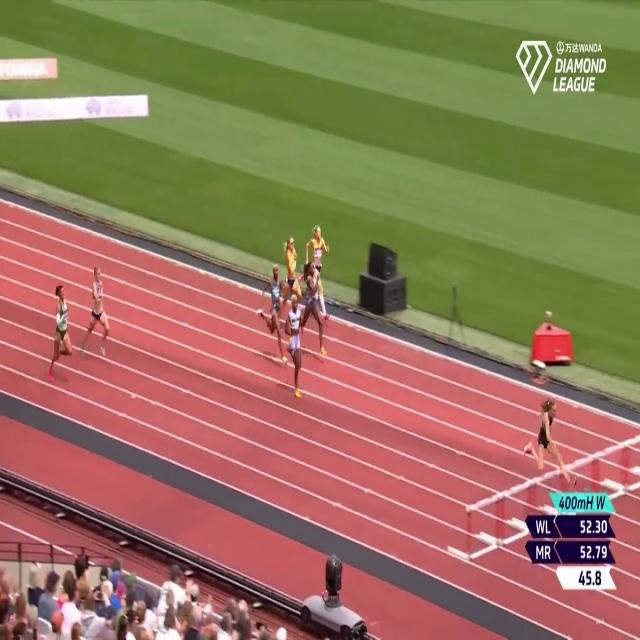athlete: (522, 389, 580, 493), (38, 278, 75, 386), (255, 258, 288, 365), (84, 266, 110, 378), (280, 287, 304, 406), (299, 260, 325, 358), (308, 222, 332, 323), (281, 233, 303, 327)
hurdle: (461, 488, 502, 568), (500, 475, 532, 557), (596, 434, 630, 508)
